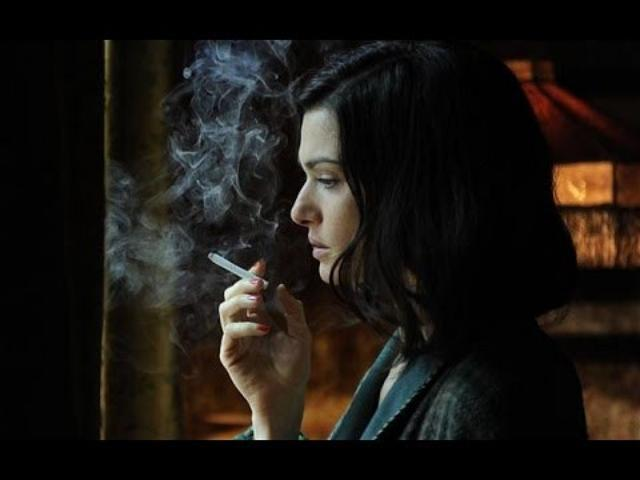SafeDriving: (310, 162, 344, 192)
Smoking: (206, 250, 270, 292)
